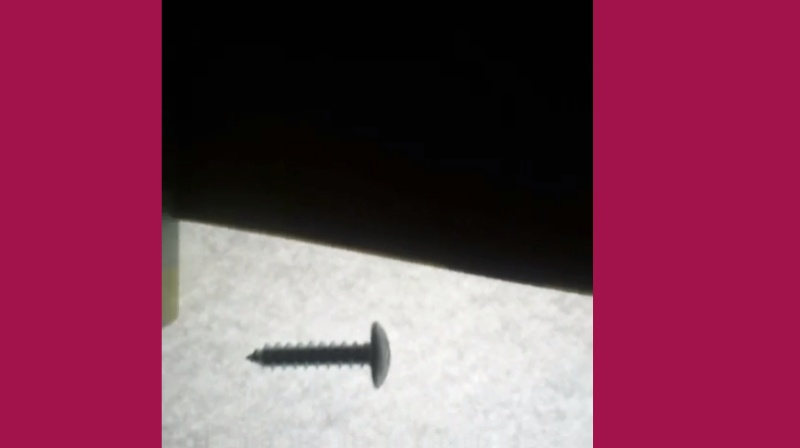S003: (244, 314, 395, 390)
